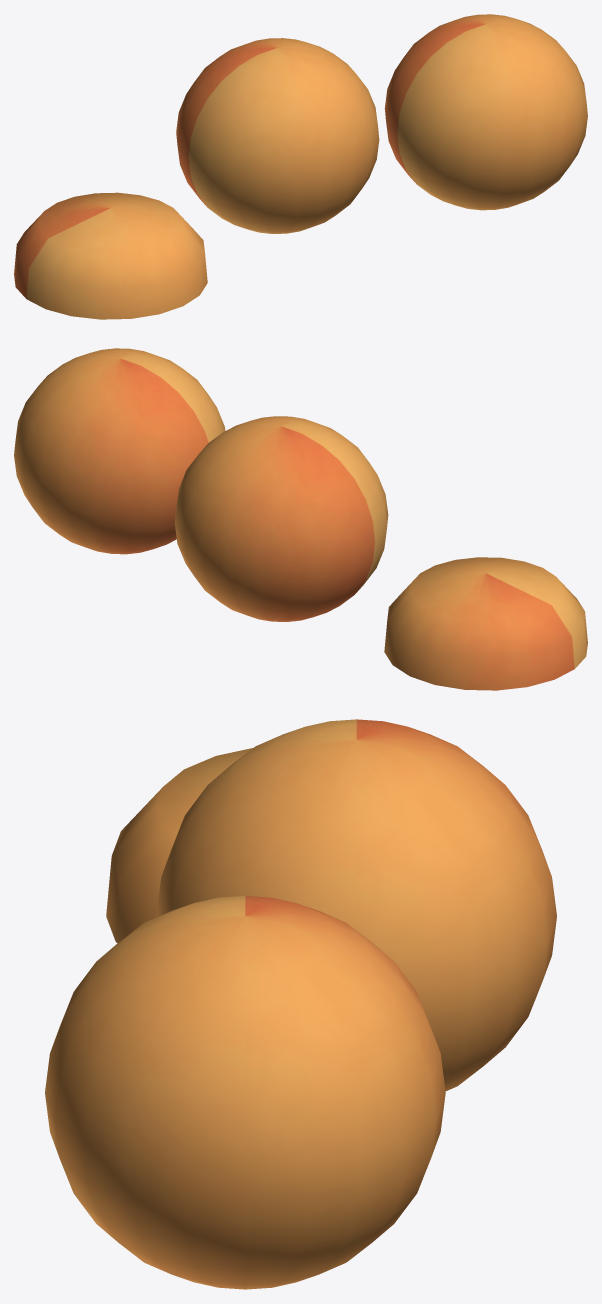
The model's file is fruit_peaches_halved.glb.
3 views of the same model, one above another, from view 1: azimuth 30°, elevation 25°; view 2: azimuth 150°, elevation 25°; view 3: azimuth 270°, elevation 25° (orthographic). The views are drawn at different scales.
Visible parts, largest first — view 1: fruit_peaches_halved; view 2: fruit_peaches_halved; view 3: fruit_peaches_halved.
Boxes of the visible parts, x1=… form: fruit_peaches_halved: x1=14, y1=14, x2=587, y2=319; fruit_peaches_halved: x1=14, y1=348, x2=587, y2=690; fruit_peaches_halved: x1=45, y1=719, x2=556, y2=1289.
Size of the model in its own units: 0.222 by 0.076 by 0.092.
3 materials, 1 textured.
